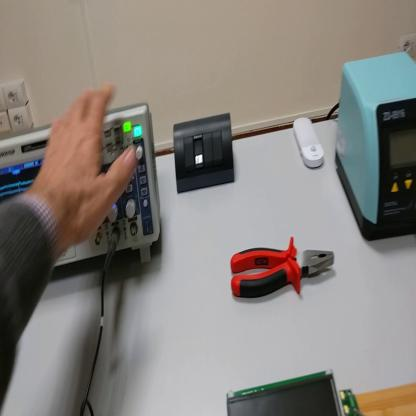hand: (42, 79, 136, 248)
low voltage board: (225, 368, 363, 414)
pliers: (232, 233, 336, 301)
welder station: (334, 51, 416, 241)
working area: (356, 380, 416, 413)
